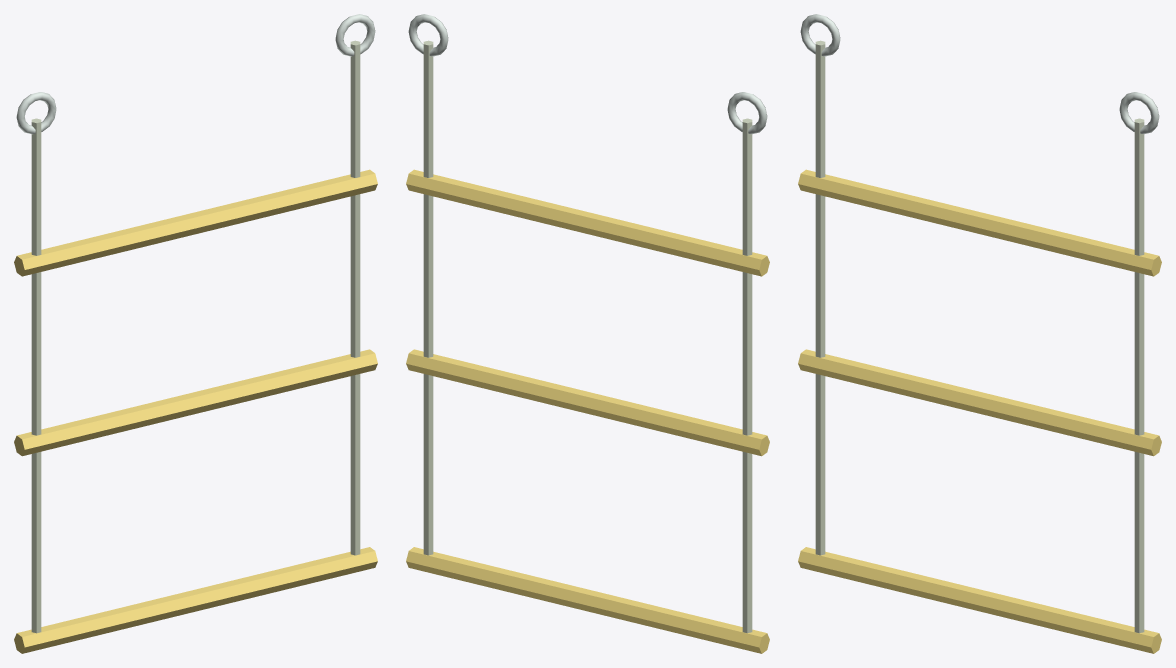
File: diving-and-underwater-salvage-decompression-trapeze-91743045__28457.glb
3 views of the same model, side by side, from view 1: azimuth 30°, elevation 25°; view 2: azimuth 150°, elevation 25°; view 3: azimuth 330°, elevation 25° (orthographic).
Visible parts, largest first — view 1: decompression-trapeze-yellow, decompression-trapeze-rope, decompression-trapeze-pale; view 2: decompression-trapeze-yellow, decompression-trapeze-rope, decompression-trapeze-pale; view 3: decompression-trapeze-yellow, decompression-trapeze-rope, decompression-trapeze-pale.
Boxes of the visible parts, x1,y1,x2,y2 form: decompression-trapeze-yellow: (14, 169, 377, 653); decompression-trapeze-rope: (31, 40, 360, 633); decompression-trapeze-pale: (16, 14, 375, 134); decompression-trapeze-yellow: (406, 169, 769, 653); decompression-trapeze-rope: (423, 40, 752, 633); decompression-trapeze-pale: (408, 14, 767, 134); decompression-trapeze-yellow: (798, 169, 1161, 653); decompression-trapeze-rope: (815, 40, 1144, 633); decompression-trapeze-pale: (800, 14, 1159, 134).
Bounding box in the file's own units: 1.46 × 2.16 × 0.0759.
